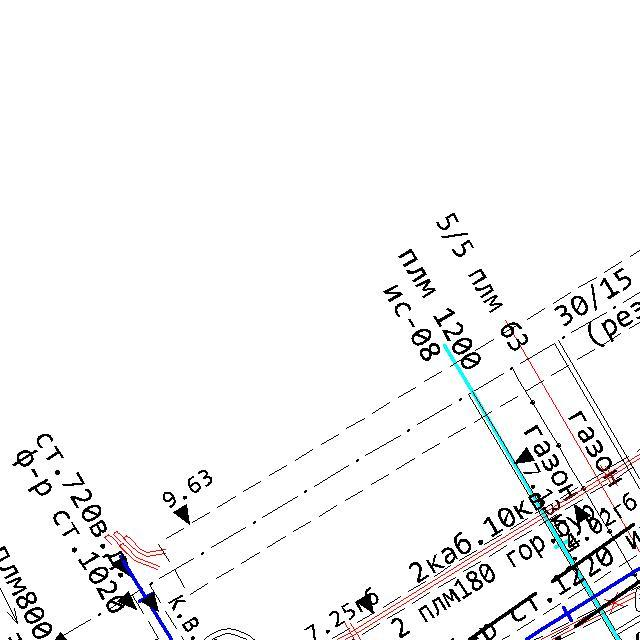mark: (170, 502, 192, 526), (354, 592, 376, 615), (140, 590, 160, 614), (117, 590, 138, 612), (513, 445, 535, 465), (572, 502, 592, 524)
